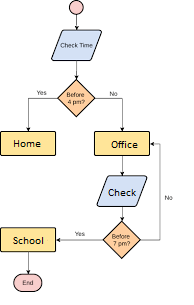arrow: (140, 141, 163, 242), (24, 96, 60, 133), (91, 95, 125, 132), (54, 236, 106, 243), (119, 155, 126, 175), (73, 60, 79, 81), (26, 250, 31, 275), (73, 14, 80, 30), (119, 205, 125, 221)
connection: (66, 1, 87, 15)
data: (95, 173, 148, 209), (48, 27, 102, 62)
decision: (101, 220, 142, 260), (56, 78, 96, 118)
process: (1, 129, 58, 157), (92, 130, 151, 157), (1, 226, 58, 253)
terminator: (12, 272, 44, 293)
text: (12, 235, 46, 246), (110, 232, 133, 248), (58, 39, 94, 49), (64, 90, 86, 106), (107, 187, 139, 197), (110, 138, 139, 149), (12, 138, 41, 148), (21, 277, 35, 287), (34, 88, 48, 96), (163, 193, 174, 202), (73, 230, 86, 237), (107, 89, 118, 96)
